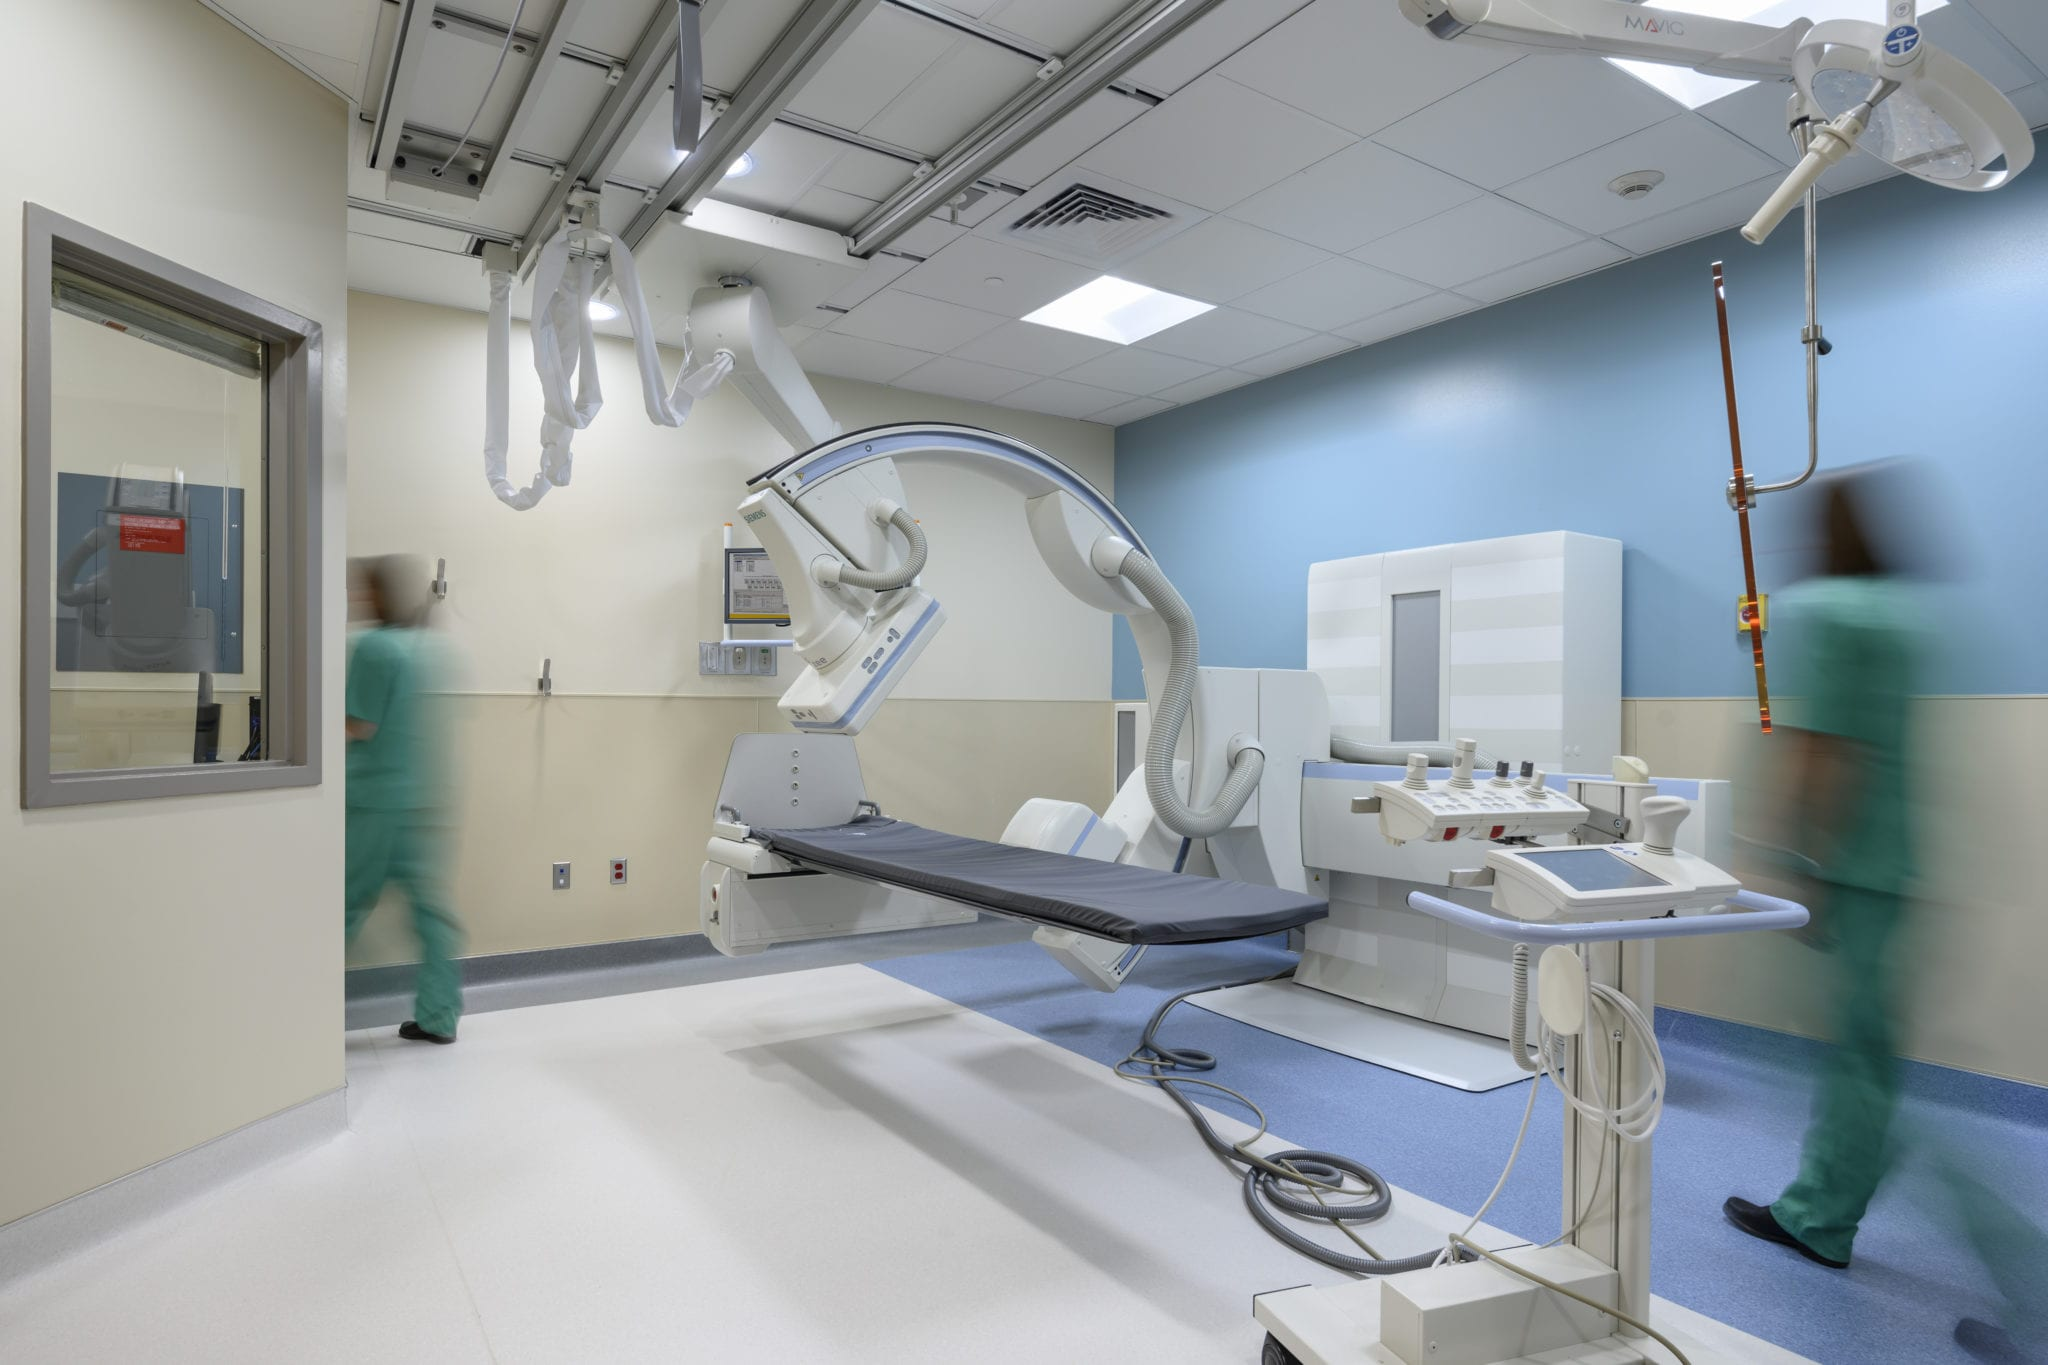bedside_monitor: (717, 547, 816, 630)
exam_table: (699, 734, 1328, 960)
staff: (1723, 480, 1933, 1267), (344, 553, 463, 1041)
surgical_light: (1740, 20, 2035, 247)
